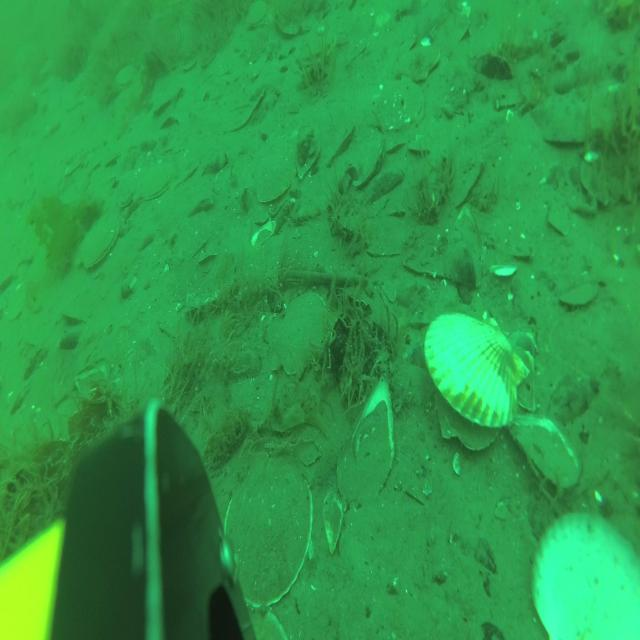scallop: (428, 308, 533, 446), (266, 294, 330, 382), (376, 82, 425, 139), (254, 147, 296, 206), (396, 41, 442, 88), (82, 218, 120, 271), (346, 142, 386, 192), (139, 157, 176, 205), (560, 273, 598, 318), (325, 123, 358, 166), (152, 83, 184, 119), (378, 128, 401, 155), (408, 136, 432, 160), (118, 184, 136, 214)
